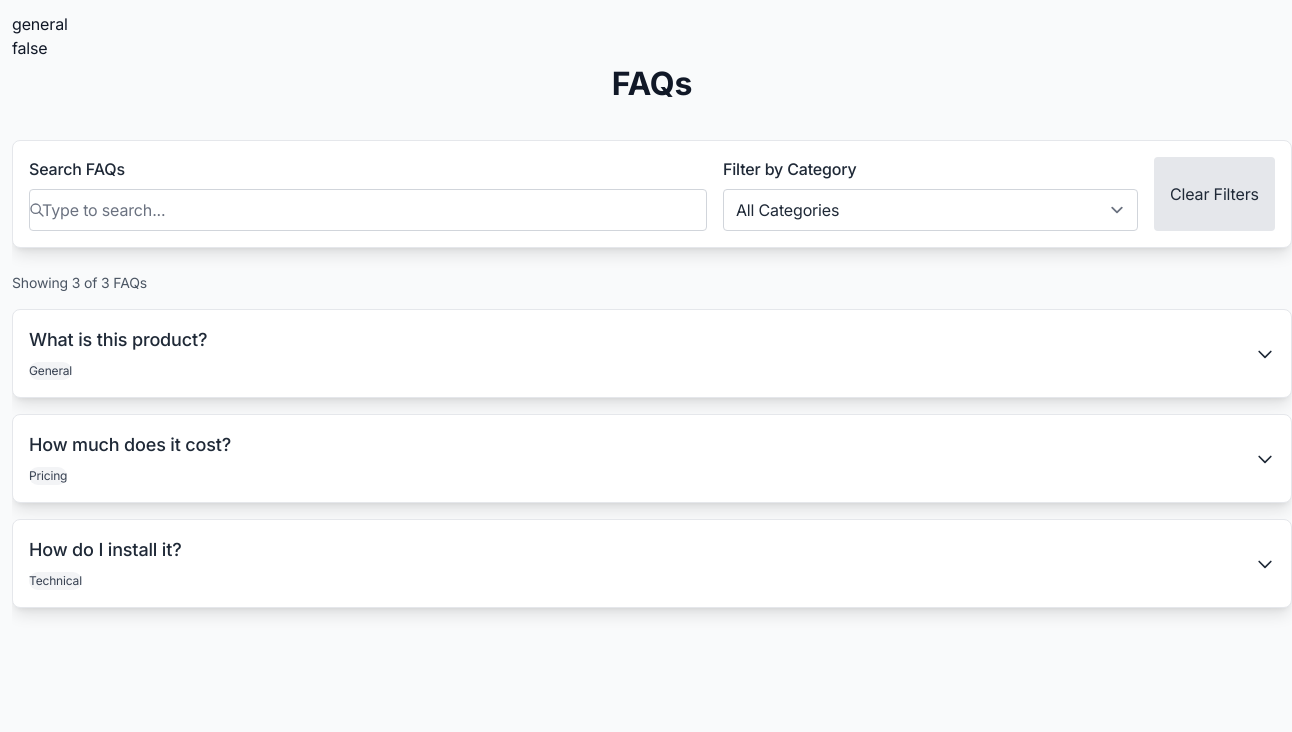
Test: Interactive Components › ExpandableFAQ › filters FAQs by search query
# Type in search box
Type "install" into the field with placeholder "Type to search..." at (368, 210), box [29,189,707,231]
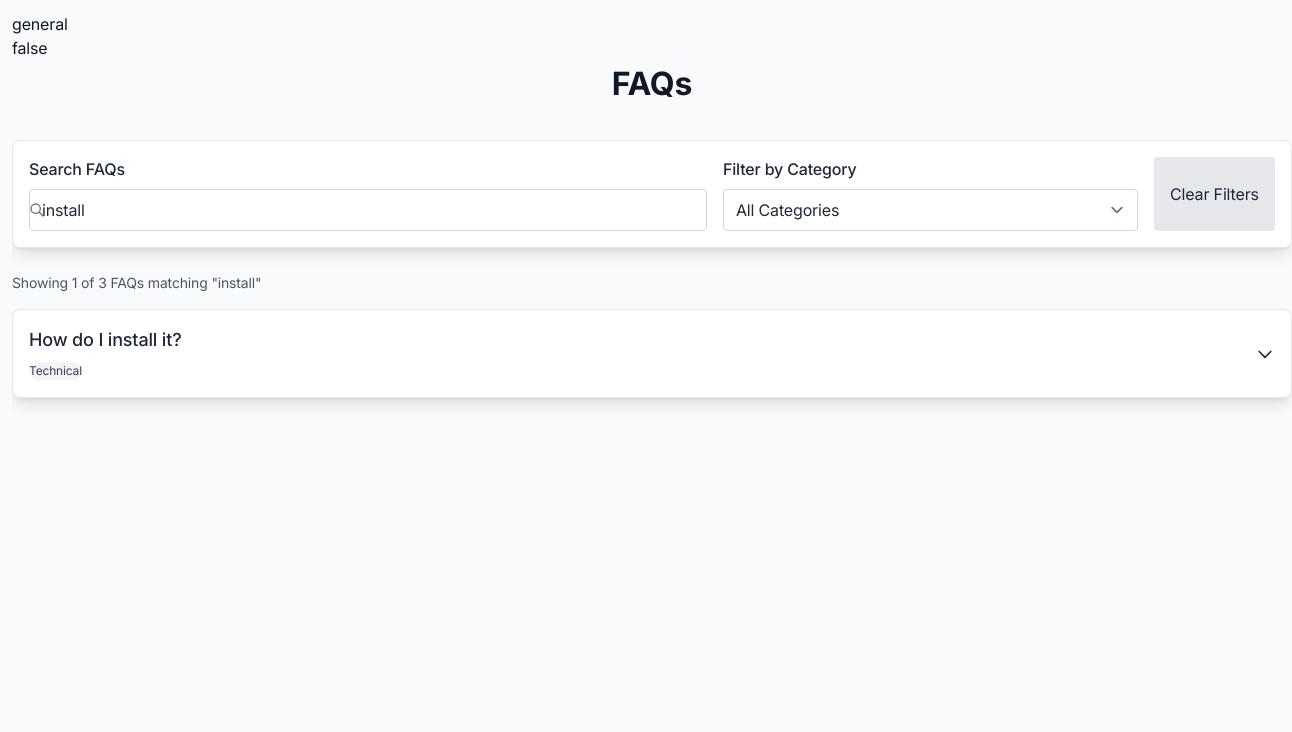
Expected: the heading "How do I install it?" is shown, [29,326,182,353]
Expected: the button "What is this product?" is gone
Expected: the button "How much does it cost?" is gone
